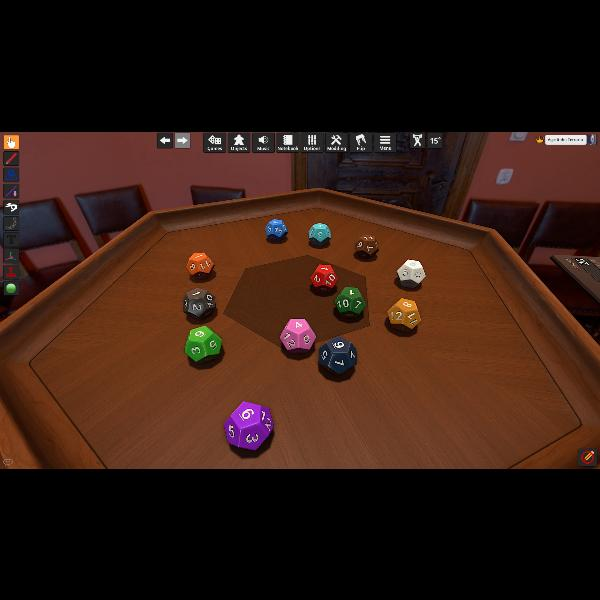d12: (224, 400, 272, 450), (184, 325, 224, 363), (321, 335, 358, 375), (280, 318, 312, 352), (388, 296, 420, 329), (183, 288, 217, 318), (334, 287, 364, 317), (396, 258, 424, 288), (186, 252, 214, 278), (310, 264, 336, 292), (354, 234, 378, 258), (265, 218, 287, 240), (310, 222, 330, 244)
